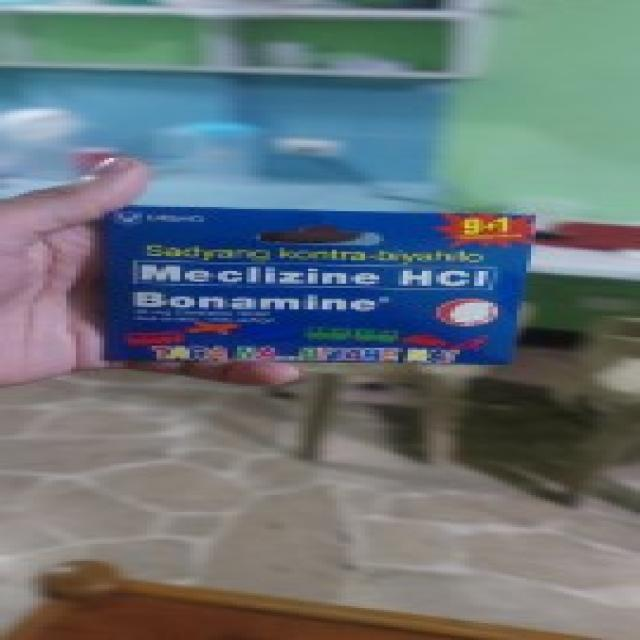Cacat: (102, 209, 529, 360)
